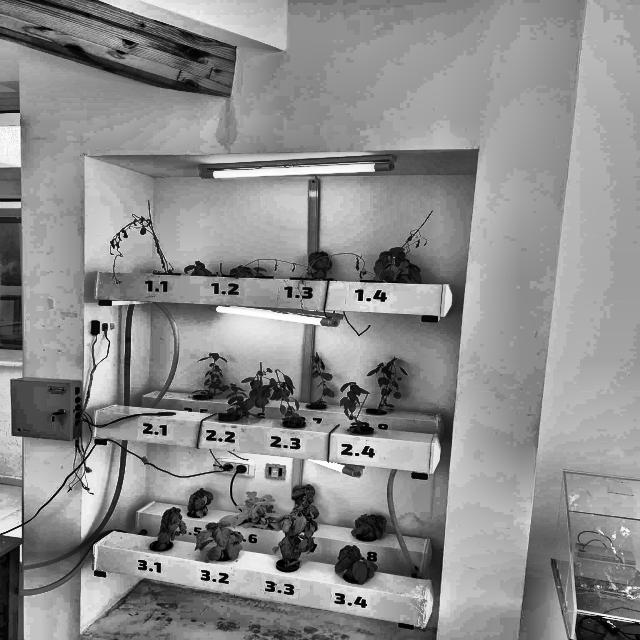plants: (109, 200, 176, 274), (226, 364, 280, 420), (367, 354, 409, 414), (274, 510, 316, 568), (230, 256, 318, 282), (406, 225, 446, 282), (221, 490, 281, 528), (302, 253, 376, 281), (194, 522, 243, 562), (151, 506, 192, 553), (193, 350, 230, 400), (270, 367, 303, 423), (340, 381, 374, 432), (336, 544, 369, 585), (308, 353, 332, 408), (376, 247, 410, 282), (288, 484, 317, 523), (184, 488, 214, 516), (353, 515, 385, 541), (310, 250, 332, 281), (186, 261, 217, 278)
